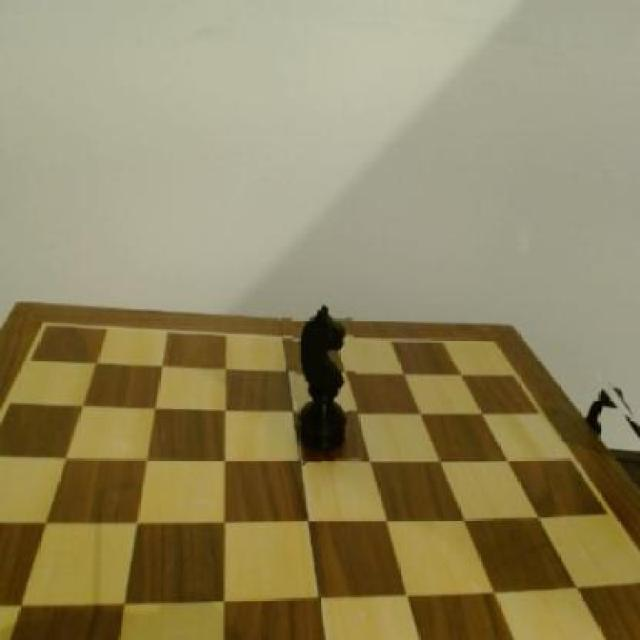black-king: (294, 295, 359, 464)
